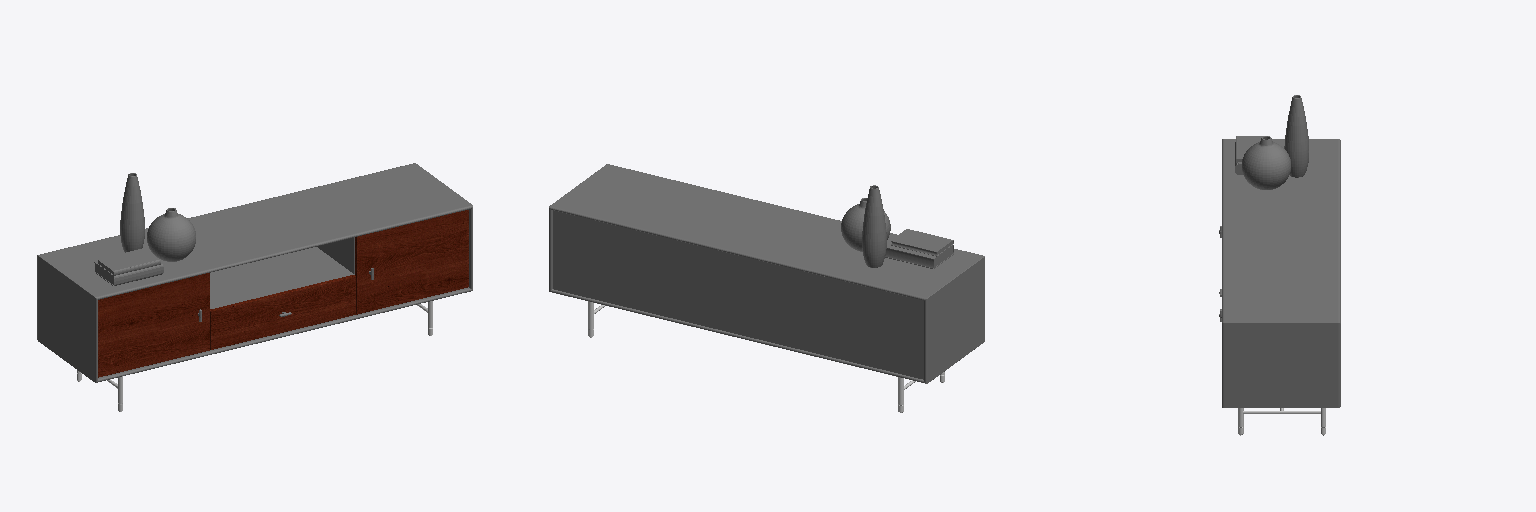
3 views of the same model, side by side, from view 1: azimuth 30°, elevation 25°; view 2: azimuth 150°, elevation 25°; view 3: azimuth 270°, elevation 25° (orthographic).
Parts seen in each view (by area): view 1: Body, door_3, door_1, door_2, case, White_Ball_Vase, Black_Bottle, Book_2, Book_1; view 2: back_side, Body, Black_Bottle, Book_2, White_Ball_Vase, Book_1, legs; view 3: Body, White_Ball_Vase, Black_Bottle, legs.
Boxes of the visible parts, <box> form: Body: <box>37,163,472,382</box>; door_3: <box>355,210,468,314</box>; door_1: <box>98,273,209,377</box>; door_2: <box>210,275,355,349</box>; case: <box>210,237,354,308</box>; White_Ball_Vase: <box>147,208,195,261</box>; Black_Bottle: <box>120,173,144,252</box>; Book_2: <box>97,248,160,275</box>; Book_1: <box>94,261,163,285</box>; back_side: <box>553,210,923,379</box>; Body: <box>549,164,984,383</box>; Black_Bottle: <box>862,185,886,267</box>; Book_2: <box>891,229,953,256</box>; White_Ball_Vase: <box>841,198,890,251</box>; Book_1: <box>885,242,953,268</box>; legs: <box>588,301,944,412</box>; Body: <box>1222,139,1340,407</box>; White_Ball_Vase: <box>1242,136,1290,189</box>; Black_Bottle: <box>1284,95,1308,177</box>; legs: <box>1238,408,1325,435</box>.
Bounding box in the file's own units: 1727 × 901 × 480.
Materials: 10 (1 with a texture image).